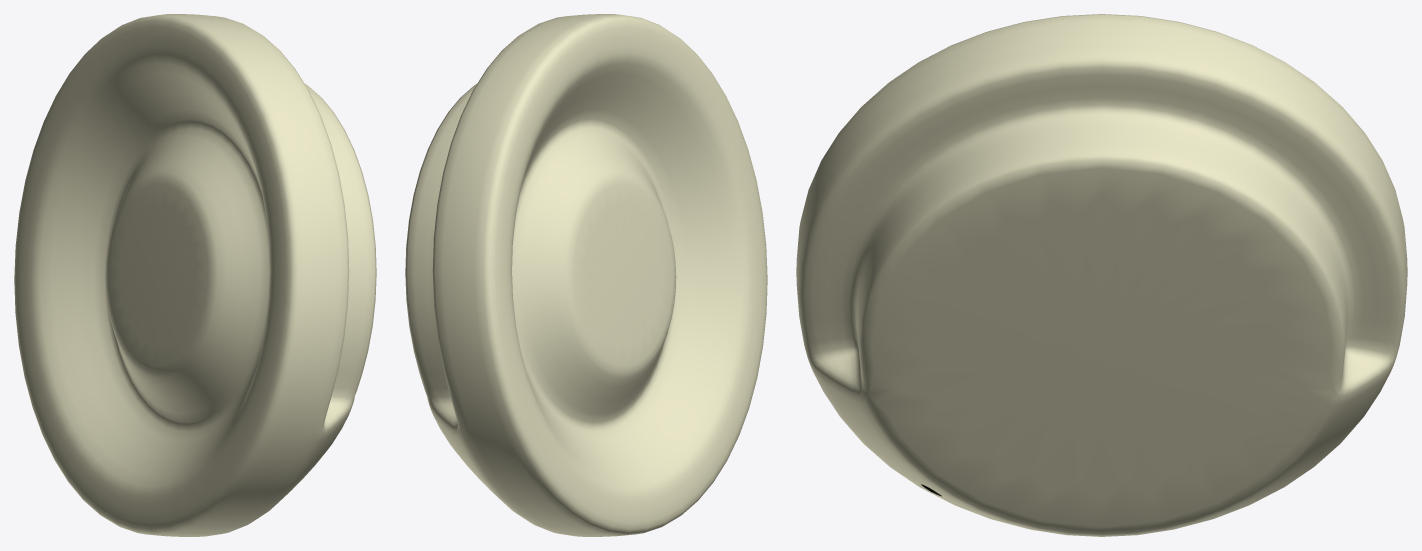
File: LumenEarPieceWithJack.glb
3 views of the same model, side by side, from view 1: azimuth 30°, elevation 25°; view 2: azimuth 150°, elevation 25°; view 3: azimuth 270°, elevation 25° (orthographic). The views are drawn at different scales.
Visible parts, largest first — view 1: EarpieceLeft; view 2: EarpieceLeft; view 3: EarpieceLeft.
Boxes of the visible parts, <box> form: EarpieceLeft: <box>14,14,376,536</box>; EarpieceLeft: <box>405,14,767,536</box>; EarpieceLeft: <box>796,14,1407,536</box>.
Bounding box in the file's own units: 0.9155 × 1.96 × 1.98.
